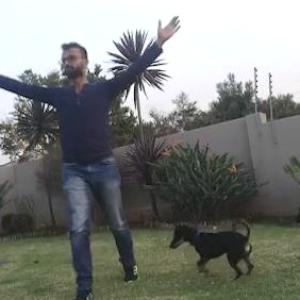takeoff: (1, 7, 169, 296)
